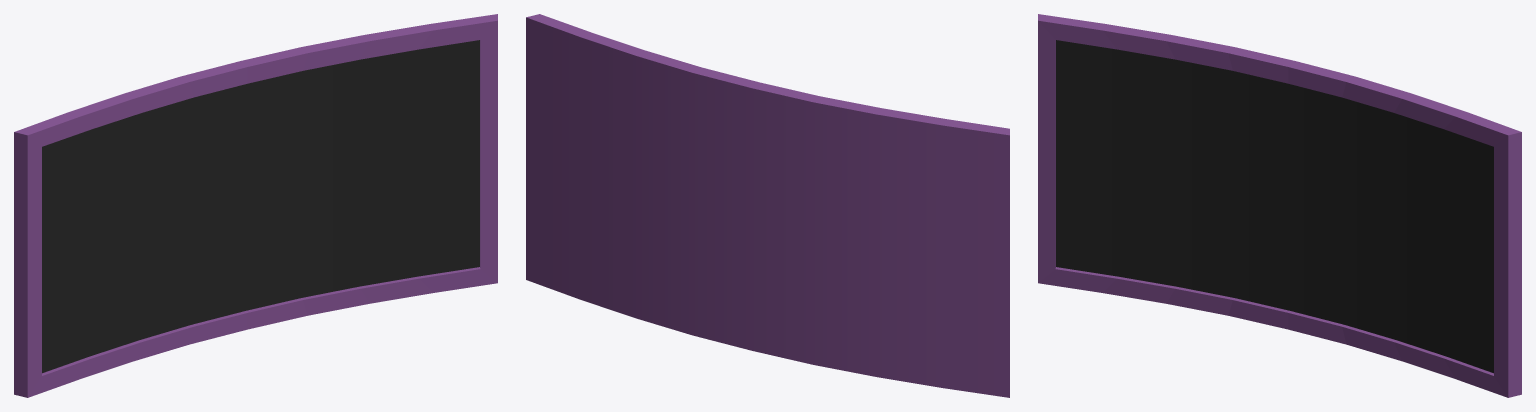
Rendered from Itr_Obj_Monitor_LCD_Curved_Screen_Off_06.FBX.
3 renders of one model, left to right at view 1: azimuth 30°, elevation 25°; view 2: azimuth 150°, elevation 25°; view 3: azimuth 330°, elevation 25°, orthographic.
Visible parts, largest first — view 1: Itr_Obj_Monitor_LCD_Curved_Screen_Off_06; view 2: Itr_Obj_Monitor_LCD_Curved_Screen_Off_06; view 3: Itr_Obj_Monitor_LCD_Curved_Screen_Off_06.
Part boxes in pixels (x1,y1,x2,y2): Itr_Obj_Monitor_LCD_Curved_Screen_Off_06: (14,14,497,397); Itr_Obj_Monitor_LCD_Curved_Screen_Off_06: (526,14,1009,397); Itr_Obj_Monitor_LCD_Curved_Screen_Off_06: (1038,14,1521,397).
Bounding box in the file's own units: 67.75 × 35.13 × 5.58.
